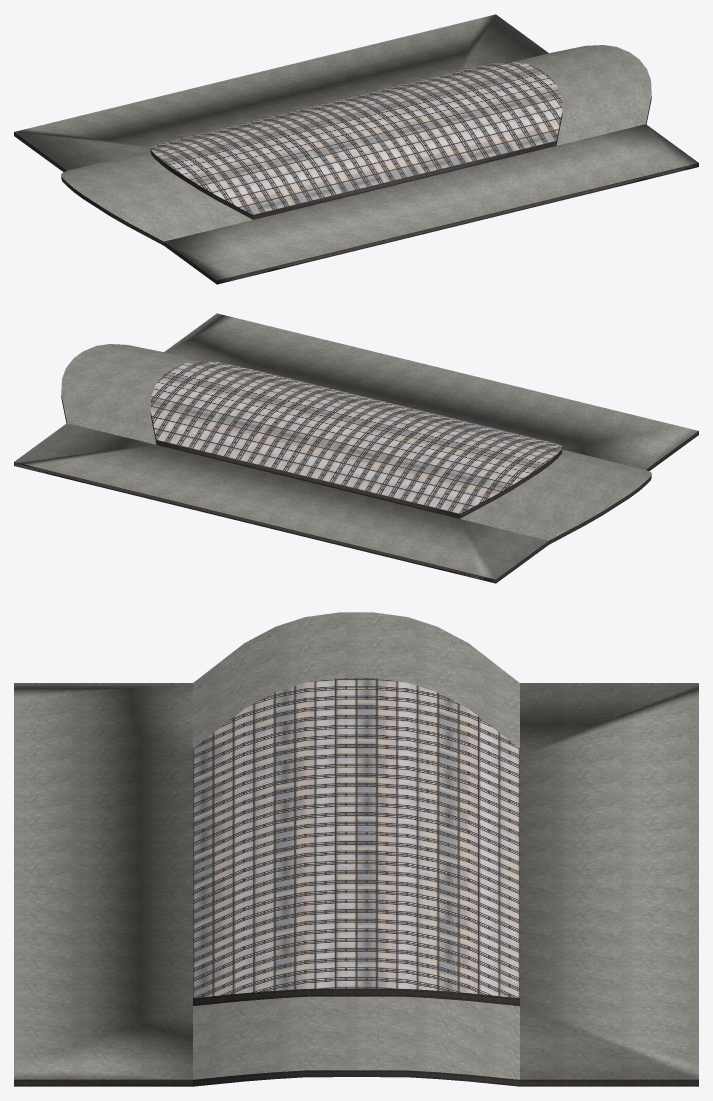
The model's file is mall_01_sfs.obj.
3 views of the same model, one above another, from view 1: azimuth 30°, elevation 25°; view 2: azimuth 150°, elevation 25°; view 3: azimuth 270°, elevation 25° (orthographic). The views are drawn at different scales.
Parts seen in each view (by area): view 1: mall_01_SFS; view 2: mall_01_SFS; view 3: mall_01_SFS.
Boxes of the visible parts, left/top/right/bottom form: mall_01_SFS: left=14, top=14, right=698, bottom=284; mall_01_SFS: left=14, top=313, right=698, bottom=583; mall_01_SFS: left=14, top=612, right=698, bottom=1086.
Bounding box in the file's own units: 107 × 5.96 × 67.38.
Materials: 4 (4 with a texture image).
